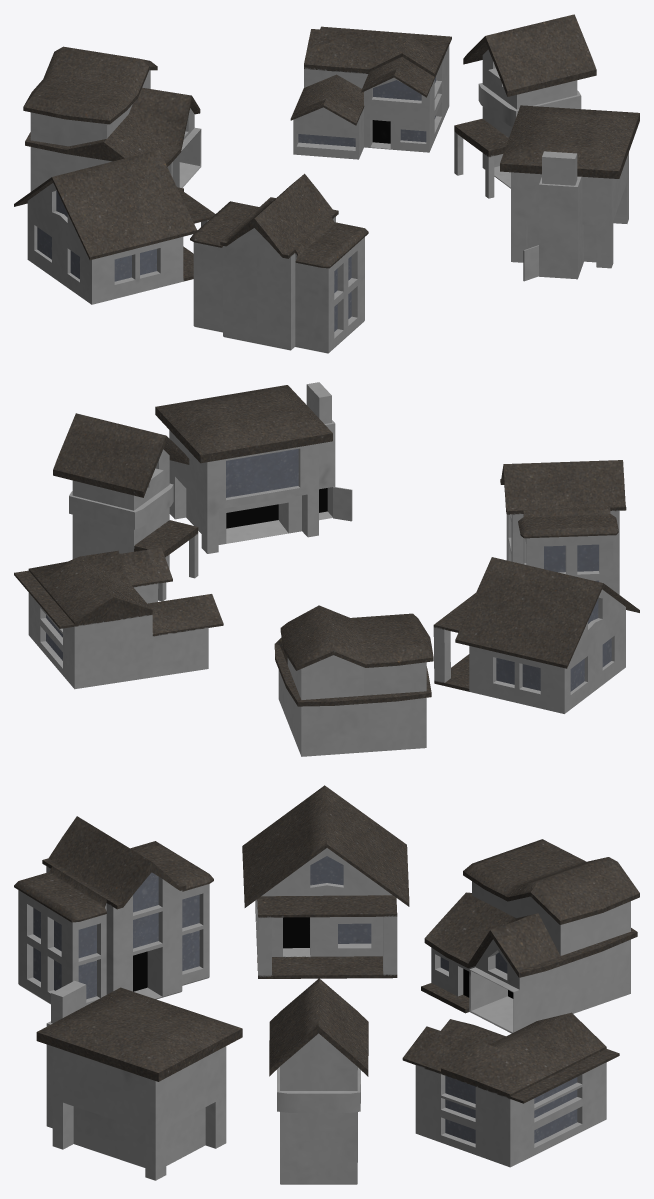
File: houses-textured.glb
The picture shows the model from 3 angles, top to bottom: view 1: azimuth 30°, elevation 25°; view 2: azimuth 150°, elevation 25°; view 3: azimuth 270°, elevation 25°; orthographic projection. The views are drawn at different scales.
Parts seen in each view (by area): view 1: houses-uv-mapped; view 2: houses-uv-mapped; view 3: houses-uv-mapped.
Part boxes in pixels (x1,y1,x2,y2): houses-uv-mapped: (14, 14, 639, 353); houses-uv-mapped: (14, 382, 639, 756); houses-uv-mapped: (14, 785, 639, 1184).
Size of the model in its own units: 35.35 by 9.63 by 32.89.
Materials: 1 (1 with a texture image).
